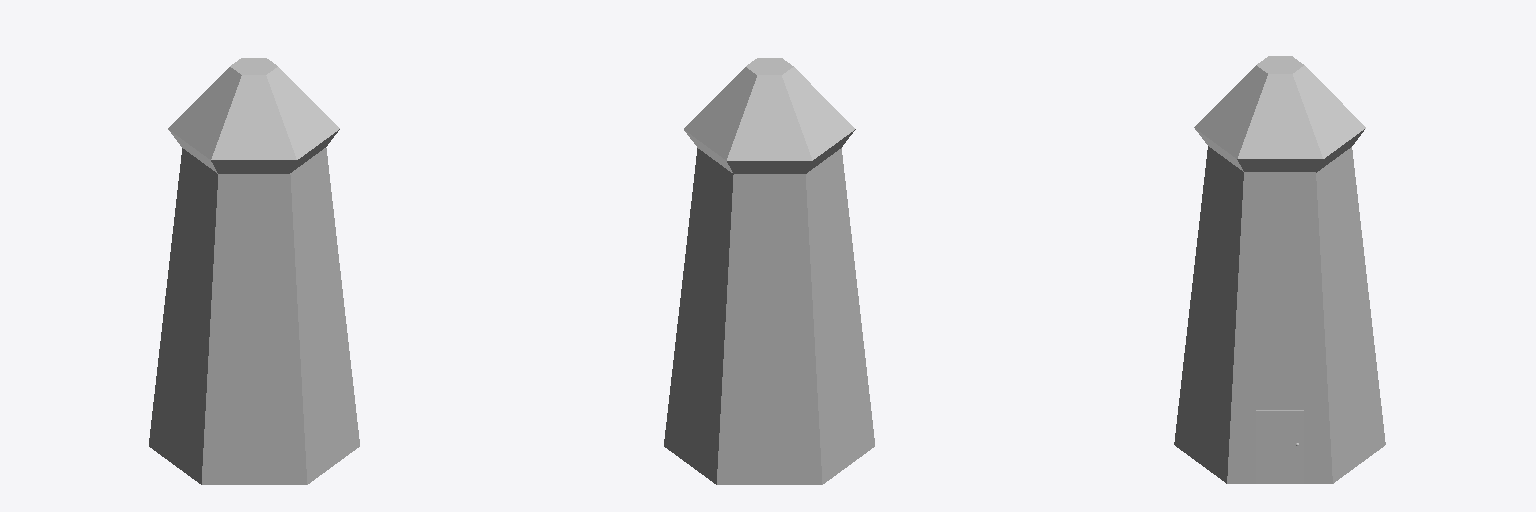
The model's file is tower.obj.
The picture shows the model from 3 angles: view 1: azimuth 30°, elevation 25°; view 2: azimuth 150°, elevation 25°; view 3: azimuth 270°, elevation 25°; orthographic projection.
Visible parts, largest first — view 1: Cylinder_Cylinder.001; view 2: Cylinder_Cylinder.001; view 3: Cylinder_Cylinder.001.
Part boxes in pixels (bbox=[...]): Cylinder_Cylinder.001: bbox=[149, 58, 359, 484]; Cylinder_Cylinder.001: bbox=[664, 58, 874, 484]; Cylinder_Cylinder.001: bbox=[1174, 56, 1385, 483].
Bounding box in the file's own units: 4.8 × 10.75 × 5.43.